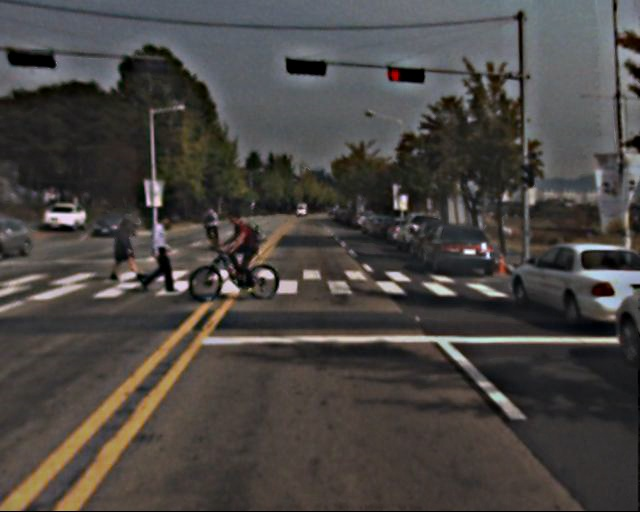person: (227, 207, 266, 290), (147, 212, 181, 295), (110, 211, 145, 281), (203, 204, 224, 249)
